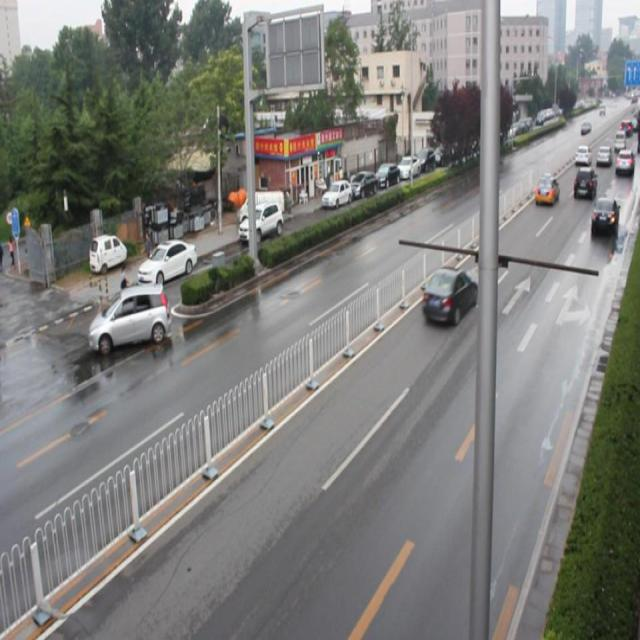car: (90, 284, 168, 357), (421, 264, 477, 325), (590, 196, 616, 235), (532, 170, 558, 208), (572, 162, 595, 198)
